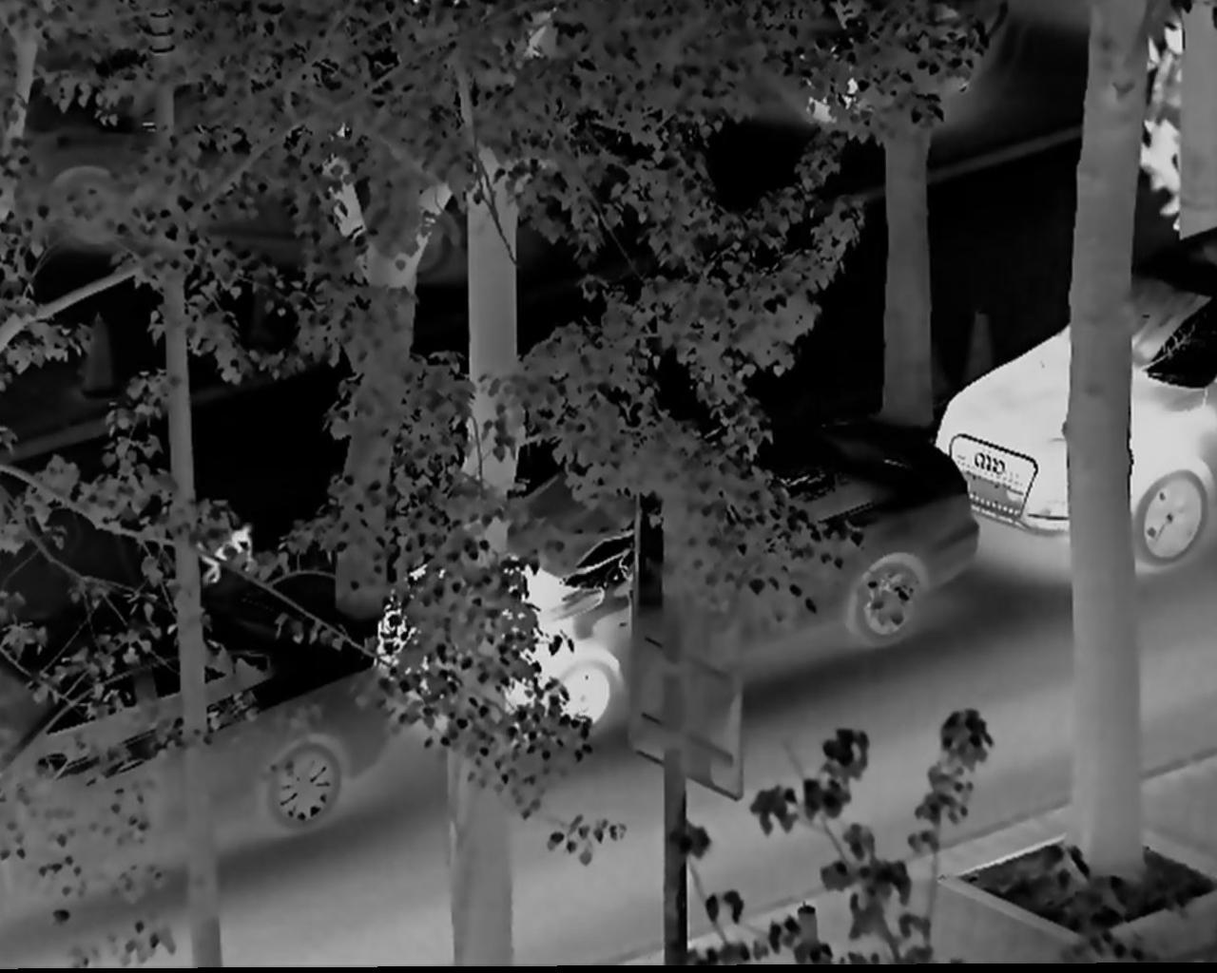person: (1142, 10, 1186, 235)
